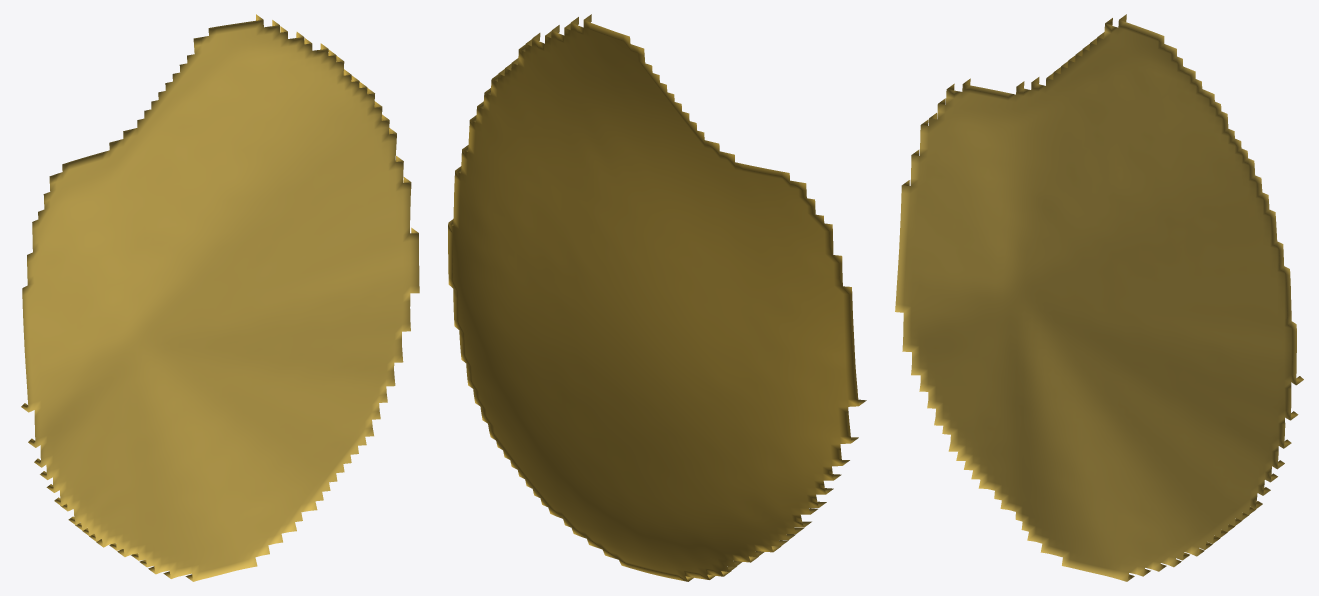
The model's file is PAIR-HEEL-PAD_LEFT_addon.glb.
The picture shows the model from 3 angles, left to right: view 1: azimuth 30°, elevation 25°; view 2: azimuth 150°, elevation 25°; view 3: azimuth 330°, elevation 25°; orthographic projection. The views are drawn at different scales.
Visible parts, largest first — view 1: geometry_0; view 2: geometry_0; view 3: geometry_0.
Boxes of the visible parts, x1,y1,x2,y2 form: geometry_0: (21,14,419,581); geometry_0: (448,14,866,581); geometry_0: (895,14,1303,581).
Bounding box in the file's own units: 55 × 71 × 7.86.
